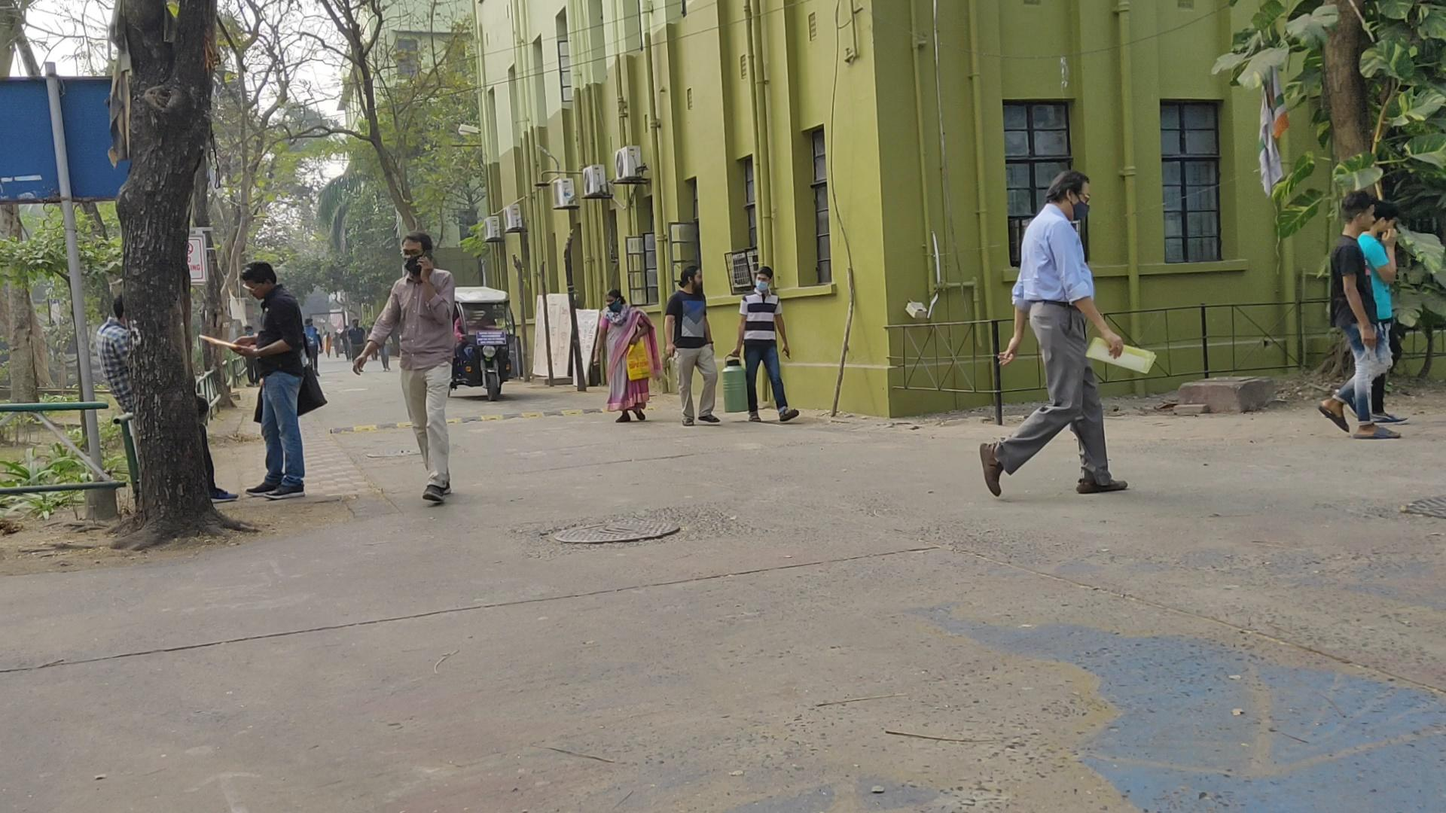Auto: (450, 286, 517, 401)
